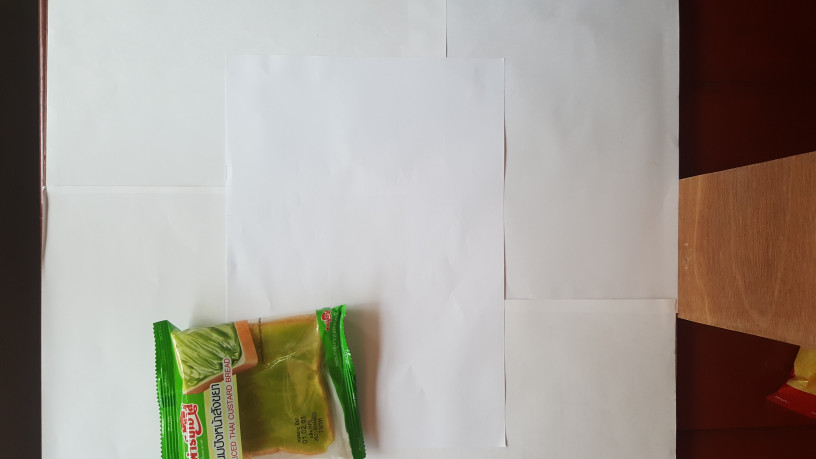farmhouse-bread-pandan: (149, 300, 369, 459)
